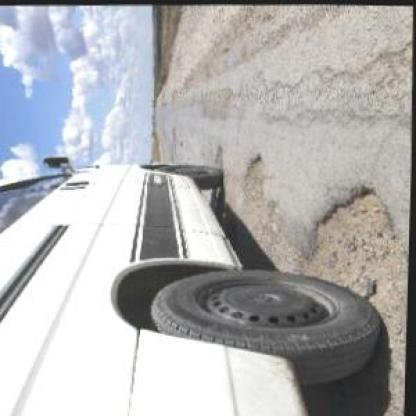pothole: (294, 179, 410, 312), (237, 152, 268, 222), (212, 144, 225, 169)
